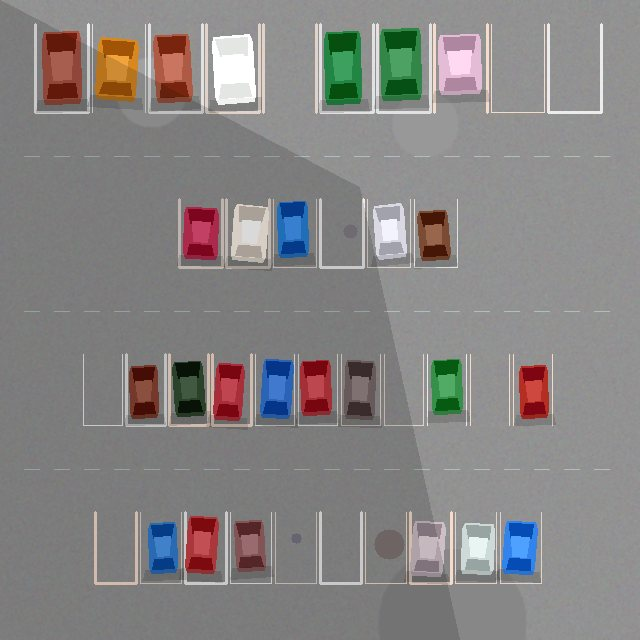space-empty: (263, 24, 316, 112), (491, 24, 544, 112), (548, 24, 601, 112), (320, 199, 363, 267), (95, 512, 136, 583), (275, 512, 316, 583), (320, 512, 361, 583), (365, 512, 406, 583), (83, 354, 122, 425), (384, 354, 423, 425), (470, 354, 509, 425)
space-occupied: (35, 24, 88, 112), (92, 24, 145, 112), (149, 24, 202, 112), (206, 24, 259, 112), (320, 24, 373, 112), (377, 24, 430, 112), (434, 24, 487, 112), (179, 199, 222, 267), (226, 199, 269, 267), (273, 199, 316, 267), (367, 199, 410, 267), (414, 199, 457, 267), (140, 512, 181, 583), (185, 512, 226, 583), (230, 512, 271, 583), (410, 512, 451, 583), (455, 512, 496, 583), (500, 512, 541, 583), (126, 354, 165, 425), (169, 354, 208, 425), (212, 354, 251, 425), (255, 354, 294, 425), (298, 354, 337, 425), (341, 354, 380, 425), (427, 354, 466, 425), (513, 354, 552, 425)
